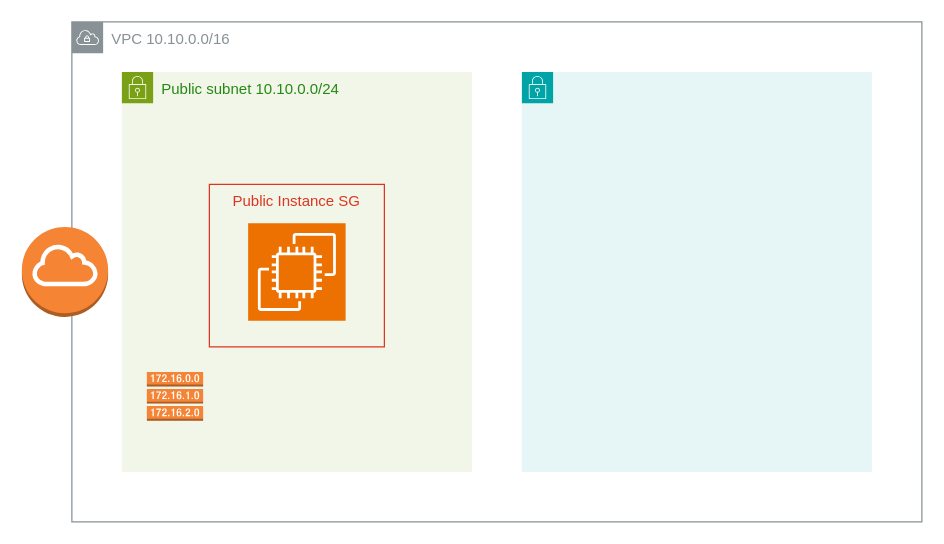
Some shapes in this 944 by 544 pixel diagram are drawn without their labels. Here are the shapes that lost their labels. From the top down, the centre of each, then its label:
the point at 696,271: Private subnet 10.10.1.0/24
the point at 174,396: Public Custom Route Table
